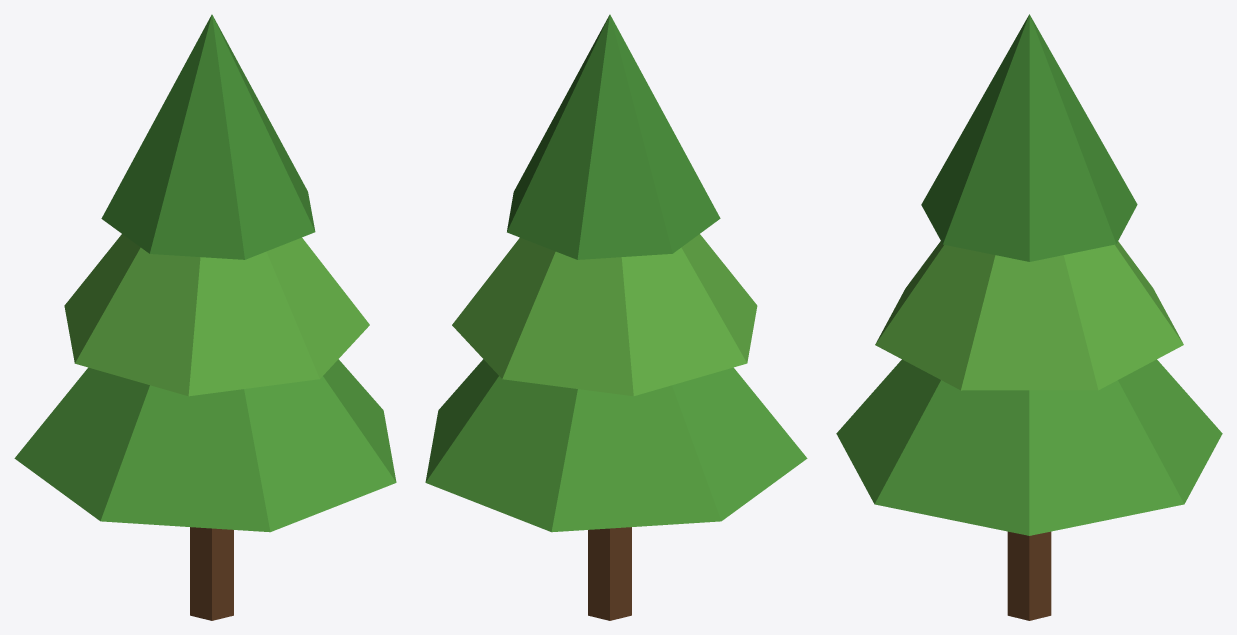
Rendered from SM_PineA_G.obj.
3 views of the same model, side by side, from view 1: azimuth 30°, elevation 25°; view 2: azimuth 150°, elevation 25°; view 3: azimuth 270°, elevation 25° (orthographic).
Parts seen in each view (by area): view 1: SM_PineA_G; view 2: SM_PineA_G; view 3: SM_PineA_G.
Part boxes in pixels (x1,y1,x2,y2): SM_PineA_G: (14, 14, 396, 620); SM_PineA_G: (425, 14, 807, 620); SM_PineA_G: (836, 14, 1222, 620).
Size of the model in its own units: 4.75 by 8.3 by 4.87.
1 material, 1 textured.
